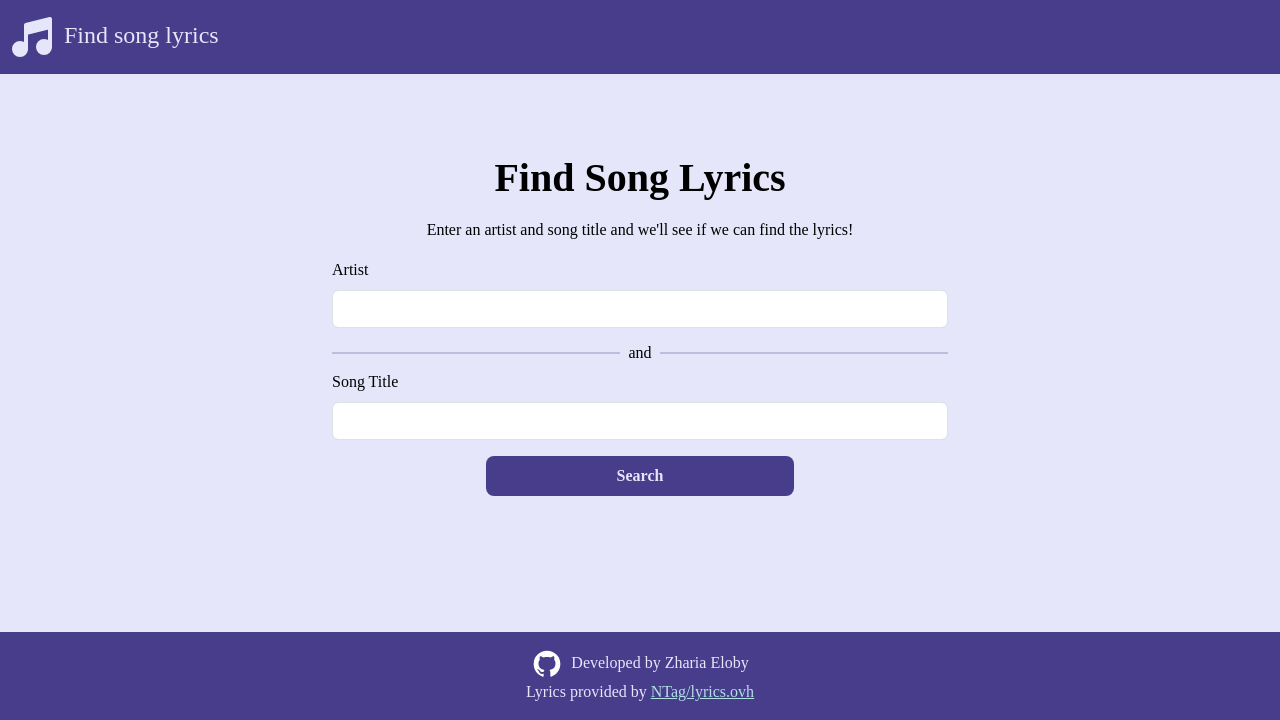
Test case: Home Page › When user searches for song lyrics › with valid input › directs to the lyrics page
expect the element with test id "home-page" is shown: met, box [332,154,948,496]
Type "Etta James" into the field with test id "artist-input-field" at (640,309), box [332,290,948,328]
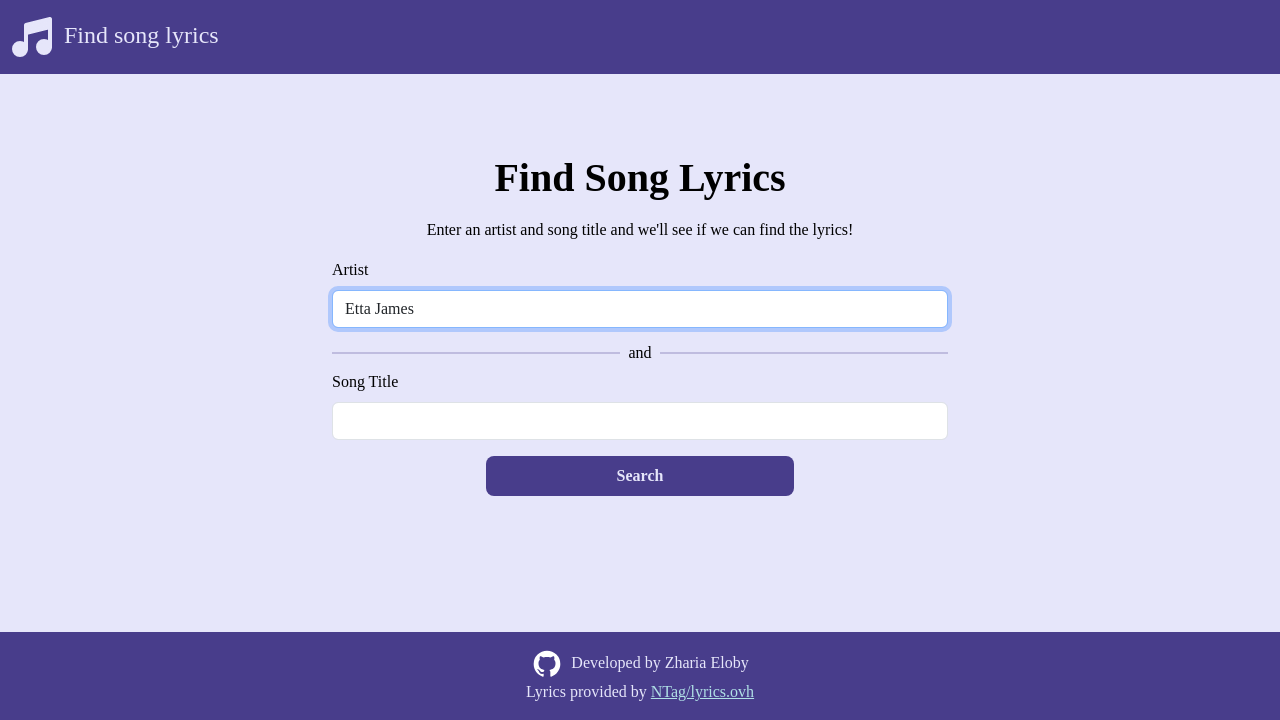
Type "At Last" into the field with test id "song-title-input-field" at (640,421), box [332,402,948,440]
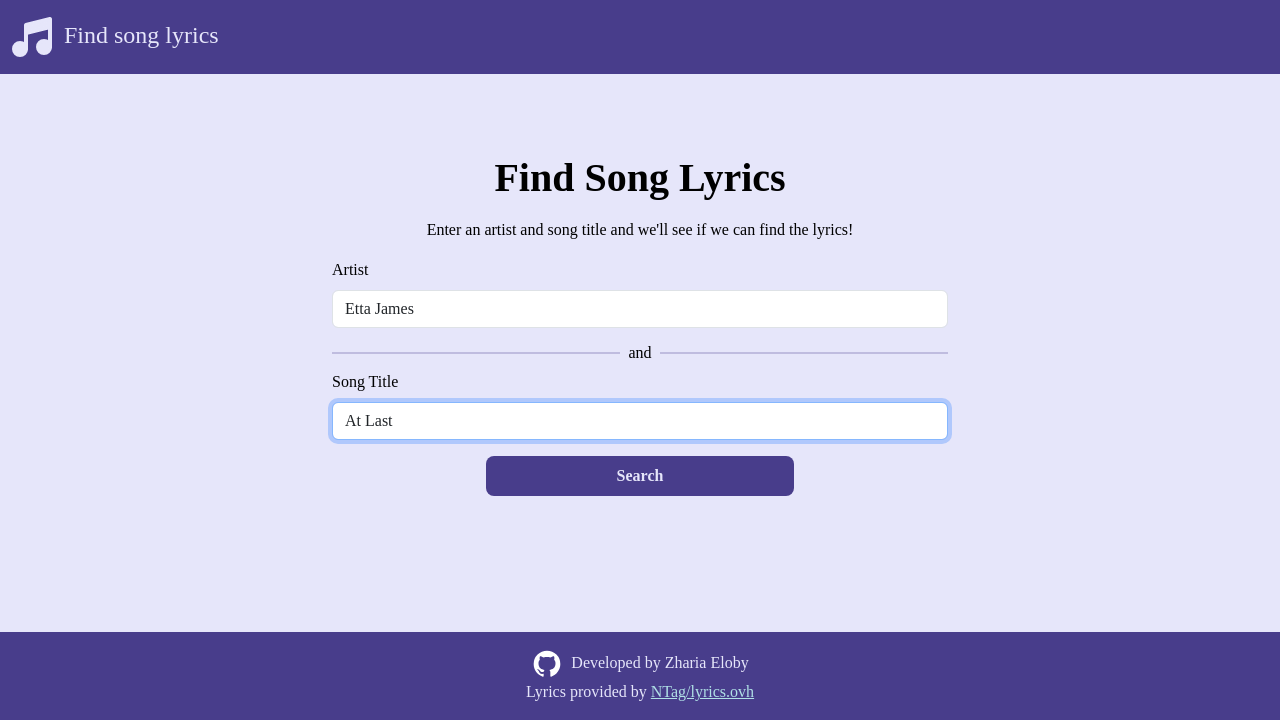
Click the button with test id "submit-button" at (640,476), box [486,456,794,496]
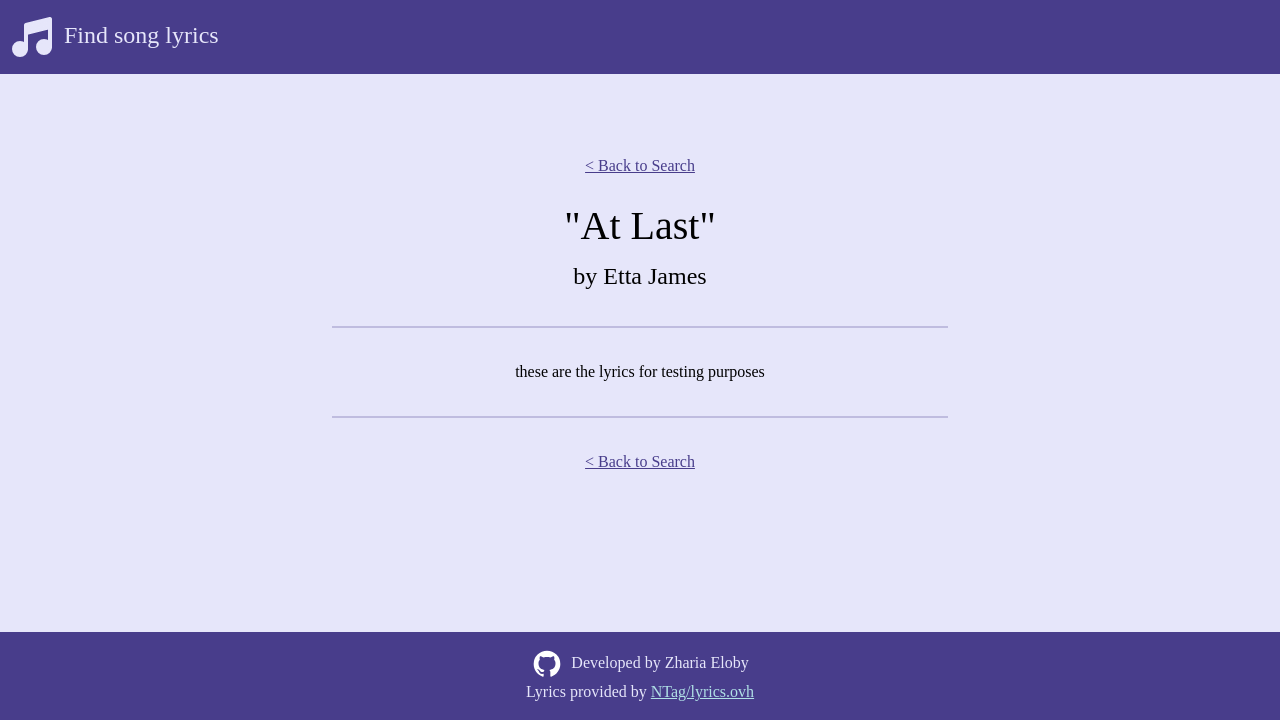
expect the element with test id "lyrics-page" is shown: met, box [332,154,948,474]
expect the heading "\"At Last\"" is shown: met, box [564,203,716,248]
expect the text "by Etta James" is shown: met, box [573,263,707,289]
